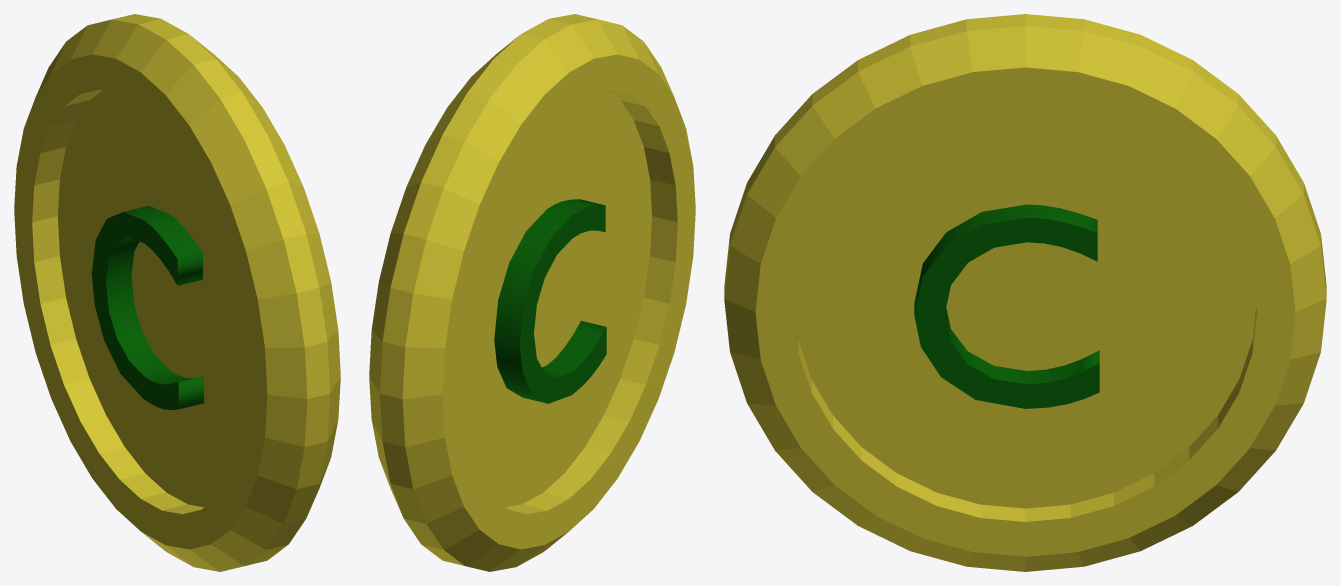
The model's file is Coin.fbx.
3 views of the same model, side by side, from view 1: azimuth 30°, elevation 25°; view 2: azimuth 150°, elevation 25°; view 3: azimuth 270°, elevation 25° (orthographic). The views are drawn at different scales.
Visible parts, largest first — view 1: Cylinder, TextF.001; view 2: Cylinder, TextF.001; view 3: Cylinder, TextF.
Boxes of the visible parts, x1,y1,x2,y2 form: Cylinder: (14,14,340,571); TextF.001: (91,205,203,410); Cylinder: (369,14,695,571); TextF.001: (494,199,606,403); Cylinder: (724,14,1326,571); TextF: (914,204,1099,408).
Size of the model in its own units: 30 by 200 by 200.
